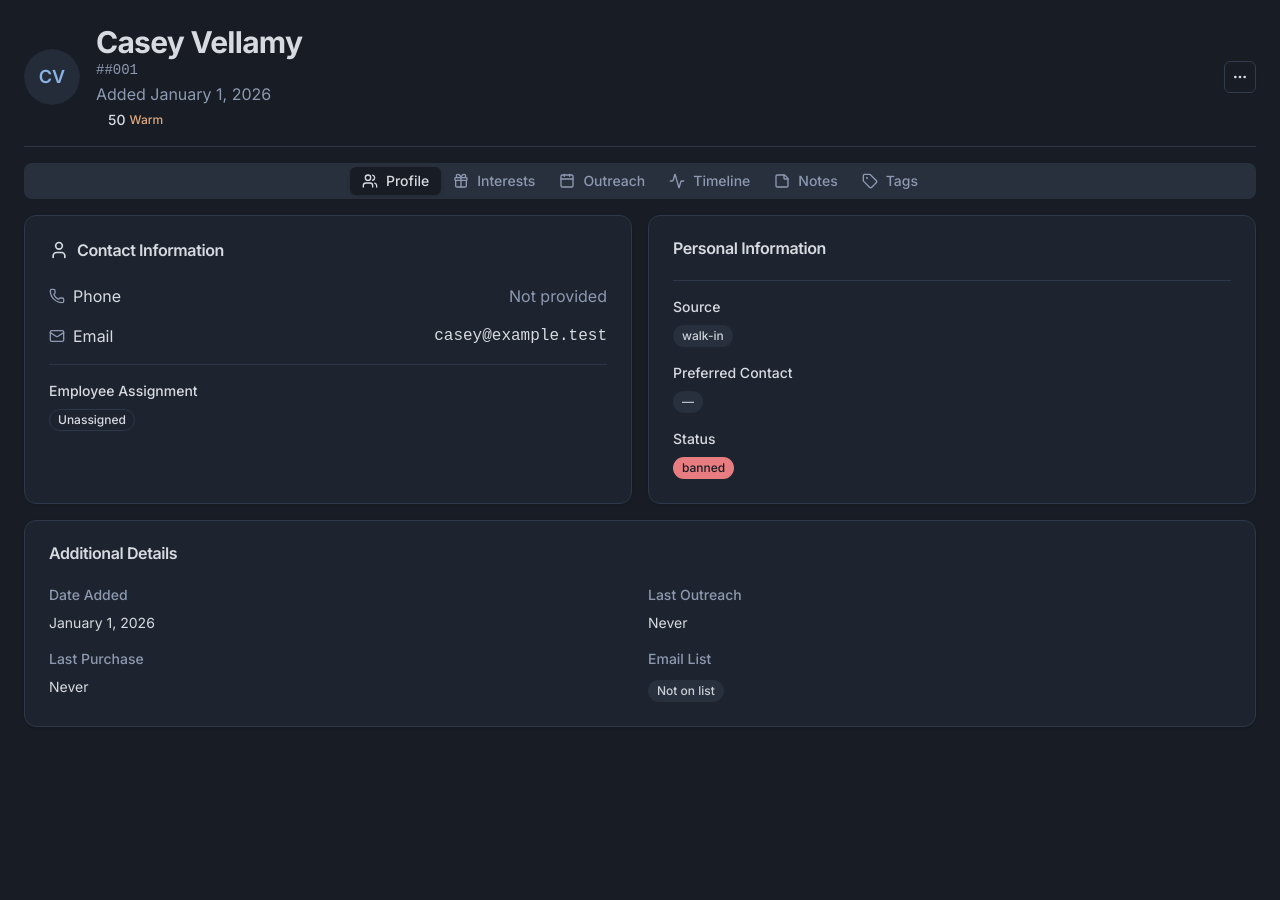
it: ClientDetailTabs optimistic toggles › unban › flips banned menu items to active instantly pre-await, toasts "Customer unbanned"
The width and height of the screenshot is (1280, 900).
Click the button named "Actions".
click(1240, 77)  # box [1224,61,1256,93]
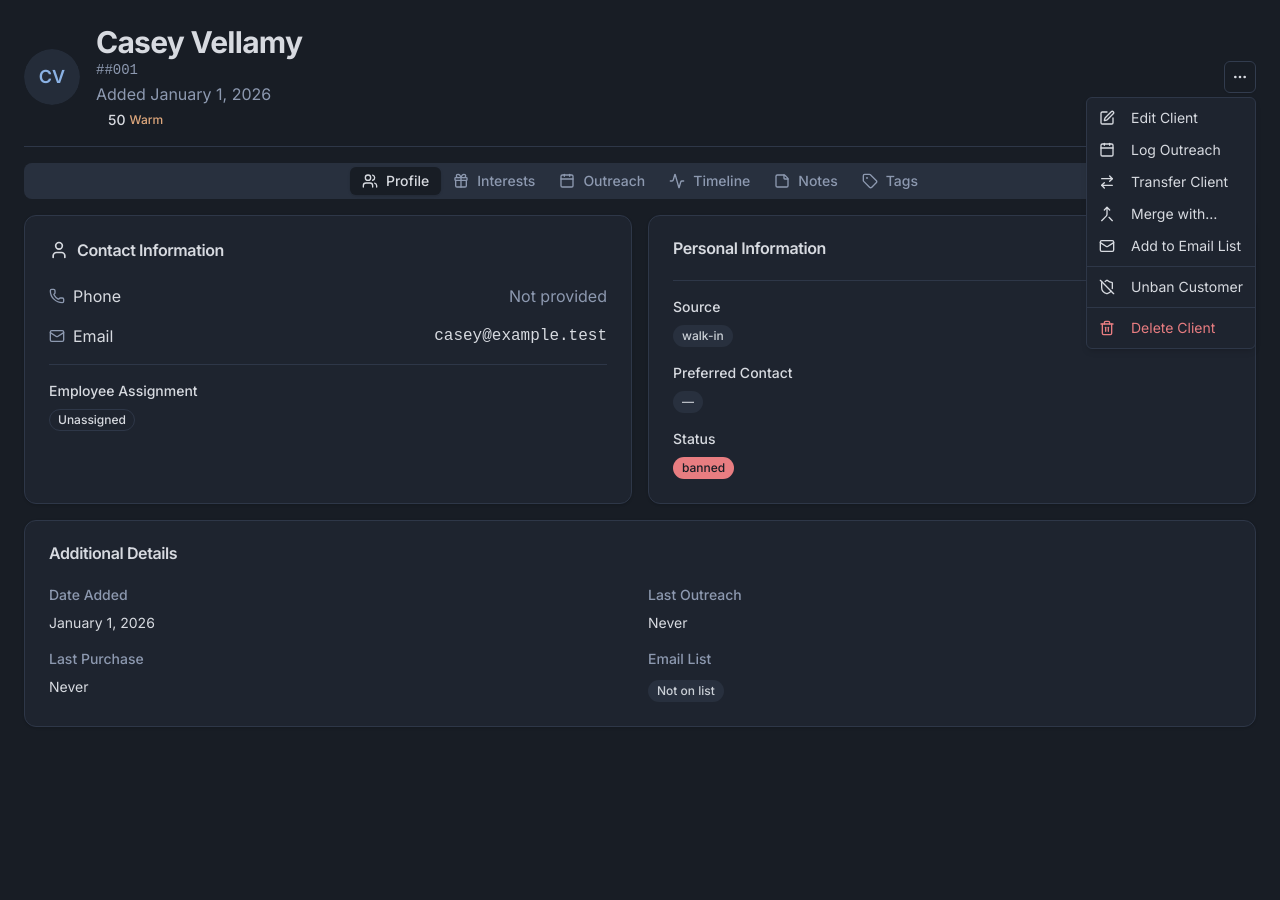
Click the menu item "Unban Customer".
click(1171, 286)  # box [1099,278,1243,295]
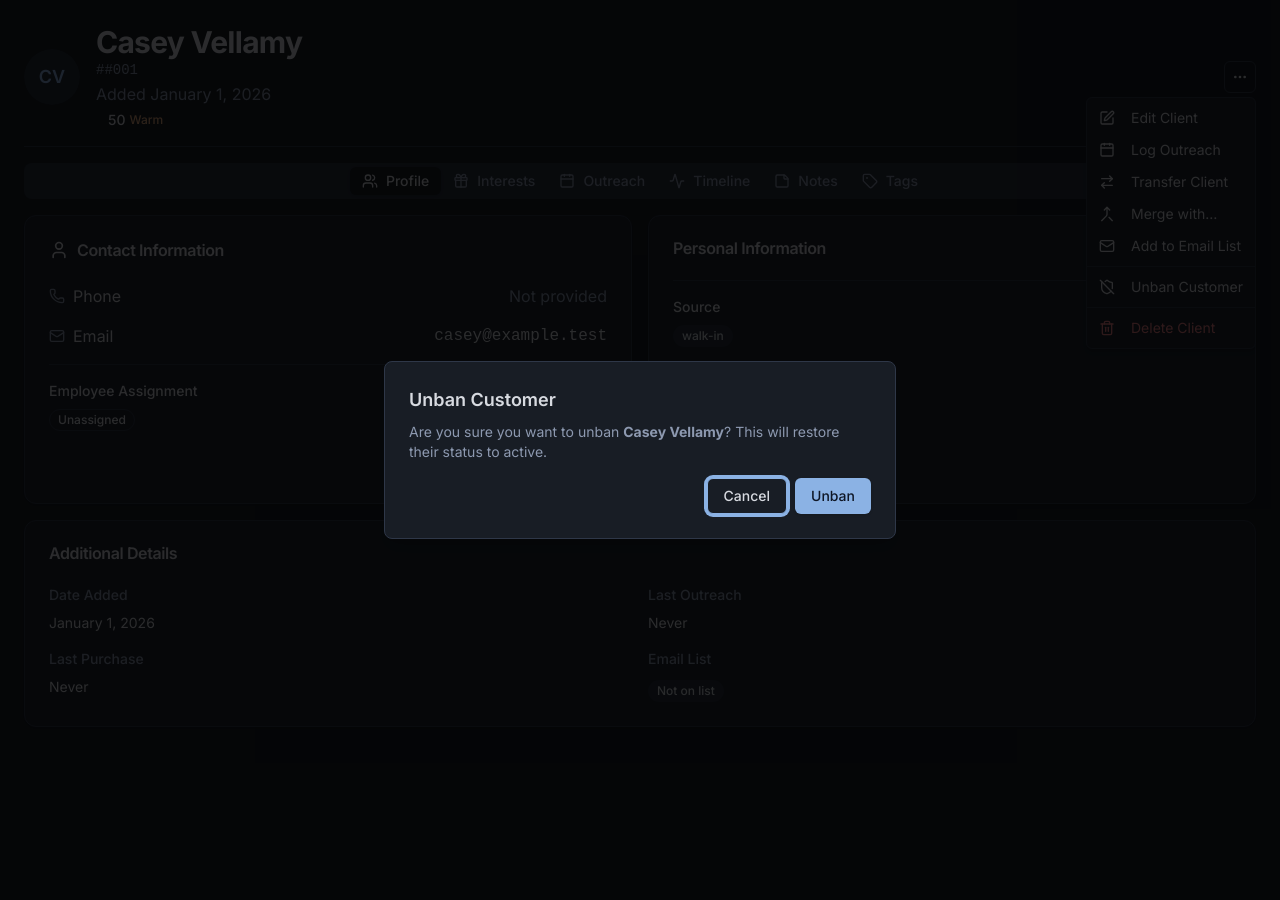
Click the button "Unban".
click(833, 496)  # box [795,478,871,514]
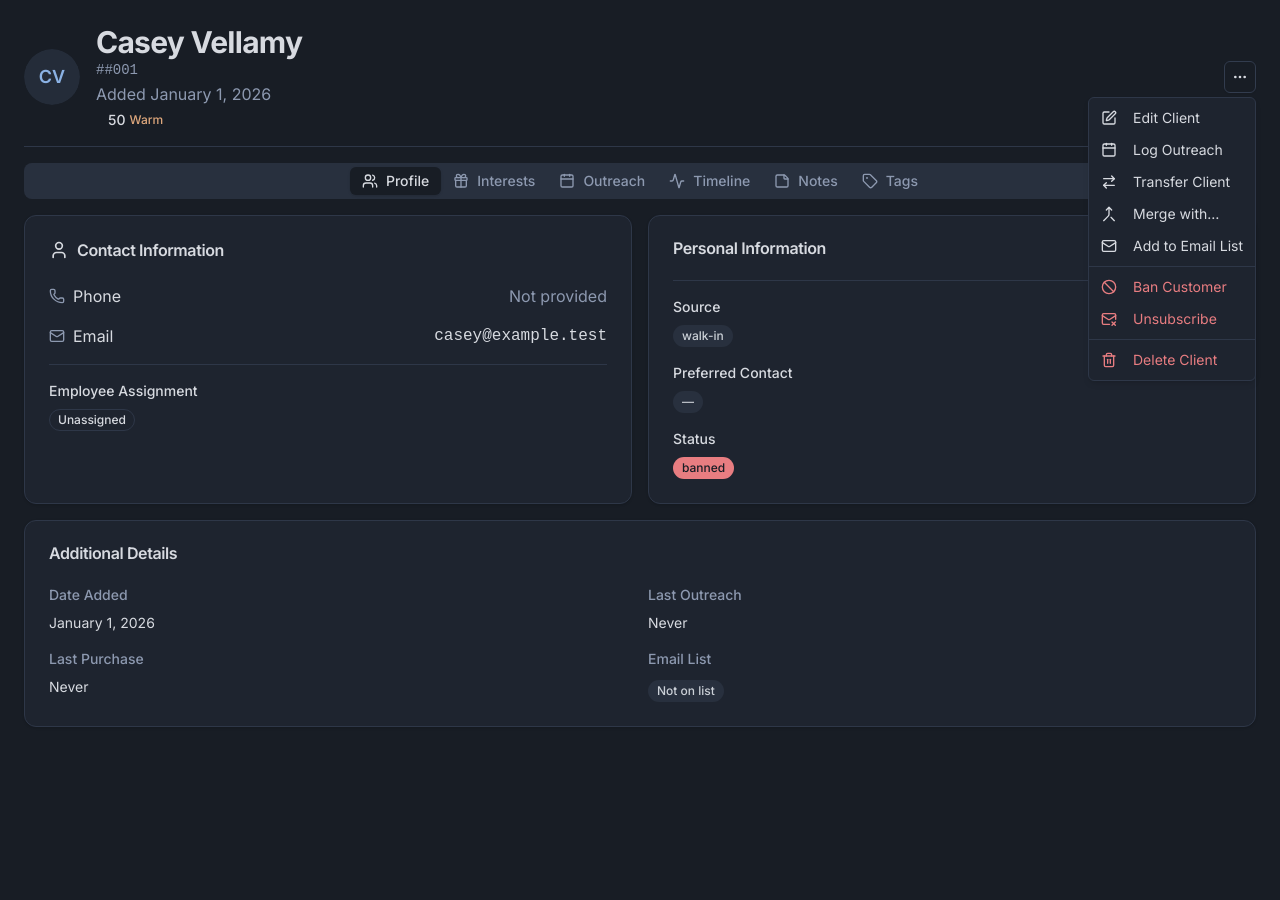
Check: the menu item "Ban Customer" is shown, box [1101,278,1227,295]
Check: the menu item "Unban Customer" is gone
